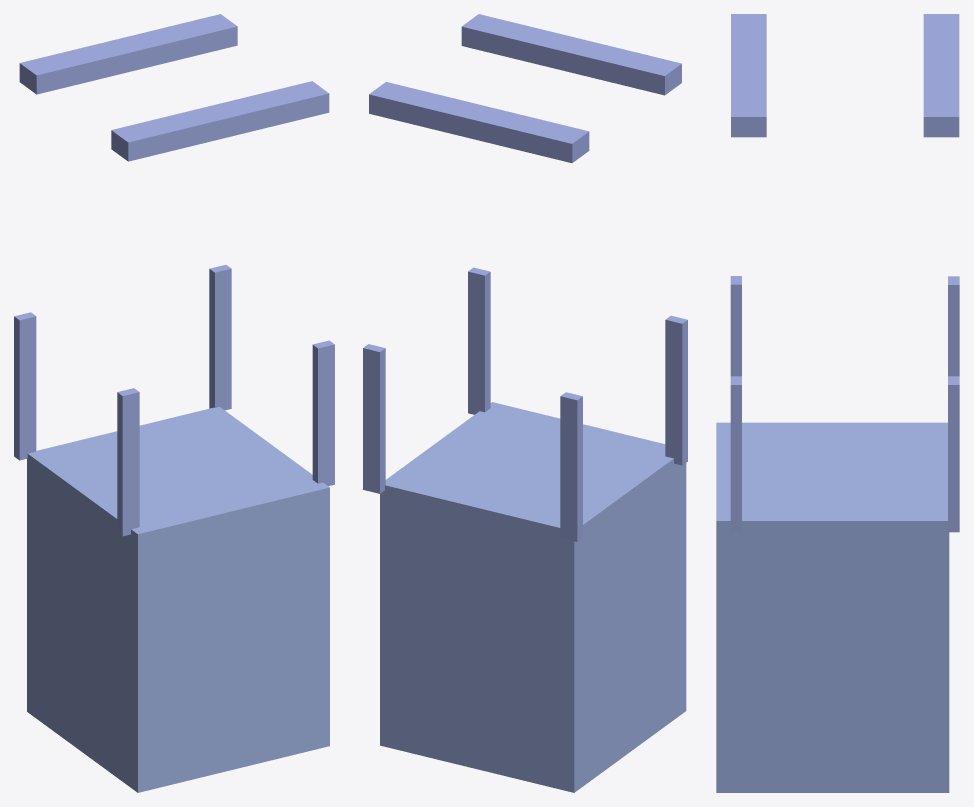
The model's file is door-dooronly.glb.
The picture shows the model from 3 angles, left to right: view 1: azimuth 30°, elevation 25°; view 2: azimuth 150°, elevation 25°; view 3: azimuth 270°, elevation 25°; orthographic projection. The views are drawn at different scales.
Visible parts, largest first — view 1: S2|SM_Foundation_Doorway_Hesco#0, S1|SM_BuildableDoor_Door_Stage_01a#1, S1|SM_BuildableDoor_Door_Stage_01a#0; view 2: S2|SM_Foundation_Doorway_Hesco#0, S1|SM_BuildableDoor_Door_Stage_01a#1, S1|SM_BuildableDoor_Door_Stage_01a#0; view 3: S2|SM_Foundation_Doorway_Hesco#0, S1|SM_BuildableDoor_Door_Stage_01a#1, S1|SM_BuildableDoor_Door_Stage_01a#0.
Part boxes in pixels (x1,y1,x2,y2): S2|SM_Foundation_Doorway_Hesco#0: (27,406,329,792); S1|SM_BuildableDoor_Door_Stage_01a#1: (14,14,237,460); S1|SM_BuildableDoor_Door_Stage_01a#0: (111,81,334,536); S2|SM_Foundation_Doorway_Hesco#0: (380,402,686,792); S1|SM_BuildableDoor_Door_Stage_01a#1: (363,82,589,541); S1|SM_BuildableDoor_Door_Stage_01a#0: (461,14,687,465); S2|SM_Foundation_Doorway_Hesco#0: (716,422,949,792); S1|SM_BuildableDoor_Door_Stage_01a#1: (923,14,959,532); S1|SM_BuildableDoor_Door_Stage_01a#0: (730,14,766,532).
Size of the model in its own units: 1.66 by 4.82 by 1.57.
